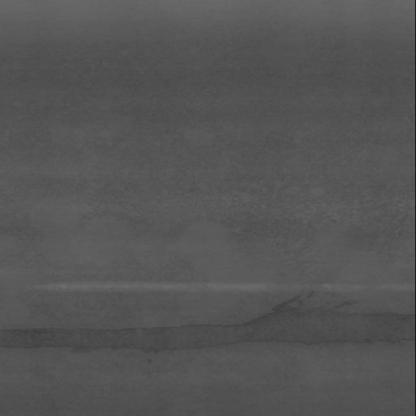water_spot: (0, 296, 387, 362)
